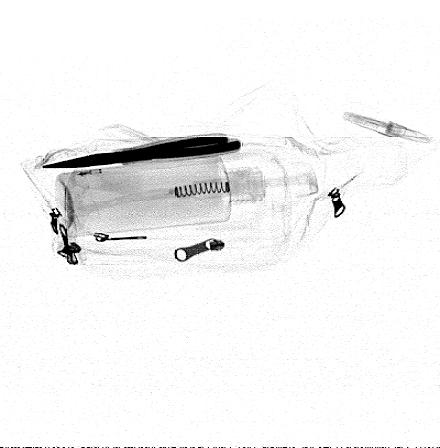Pliers: (42, 134, 245, 169)
